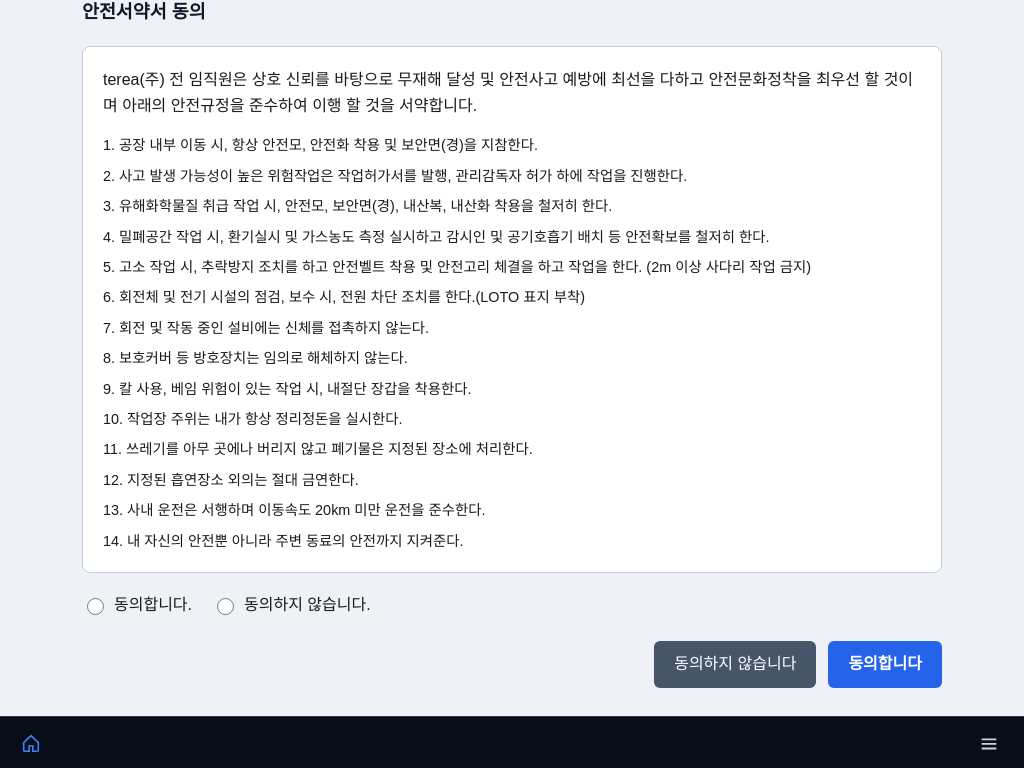
Scenario: S11: 안전서약서 동의 후 진행 › 미동의 시 주황 안내가 뜨고, 동의 후 방문 정보로 이동한다
The image size is (1024, 768).
(page scrolled)
Click the button "동의합니다".
click(885, 664)  # box [828, 641, 942, 688]
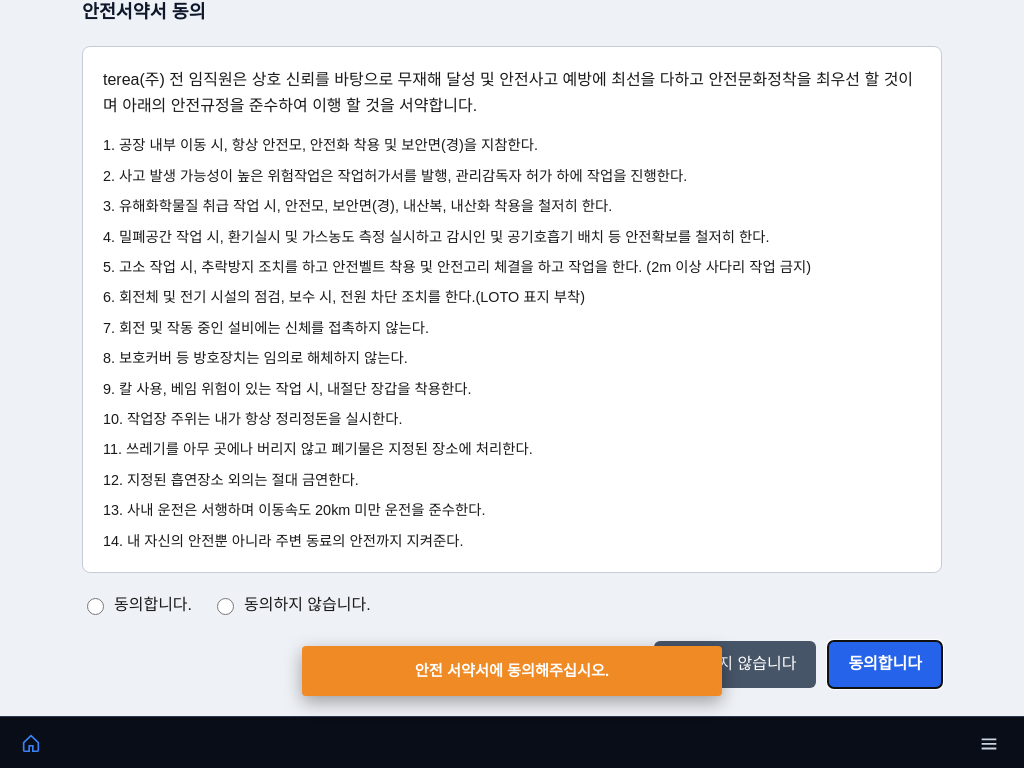
Expected: the heading "방문 정보" is not shown
Expected: the message shows "안전 서약서에 동의해주십시오", [415, 662, 609, 679]
Click the radio button labelled "동의합니다.".
click(95, 607)  # box [87, 598, 104, 615]
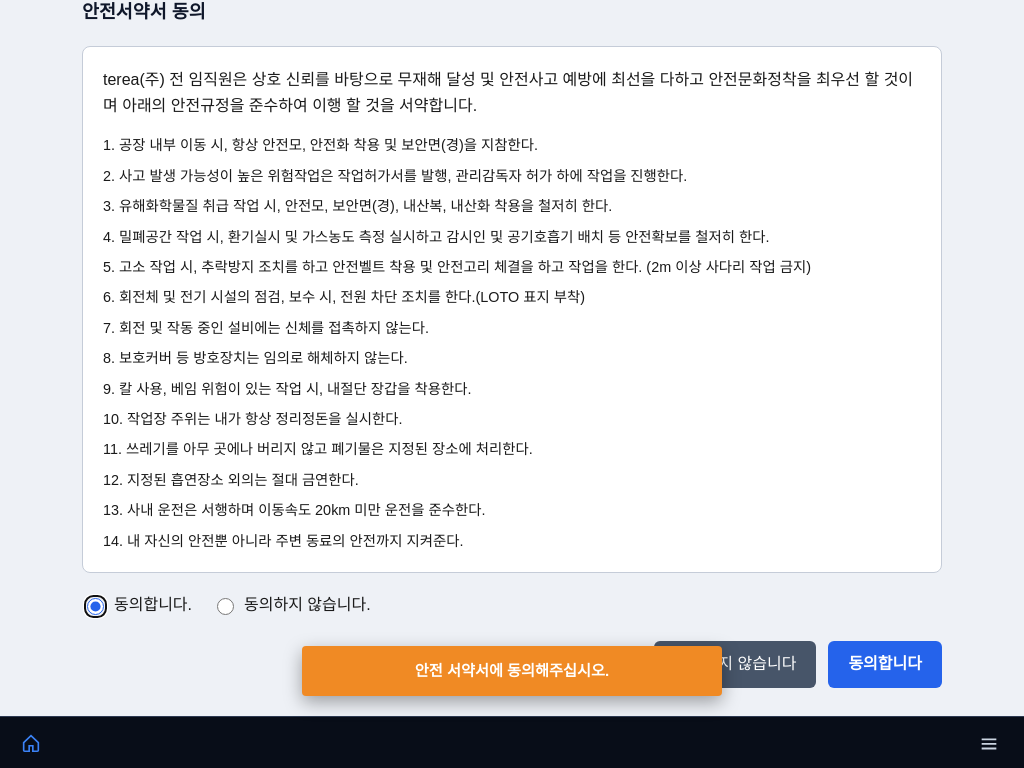
Click the button "동의합니다".
click(885, 664)  # box [828, 641, 942, 688]
(page scrolled)
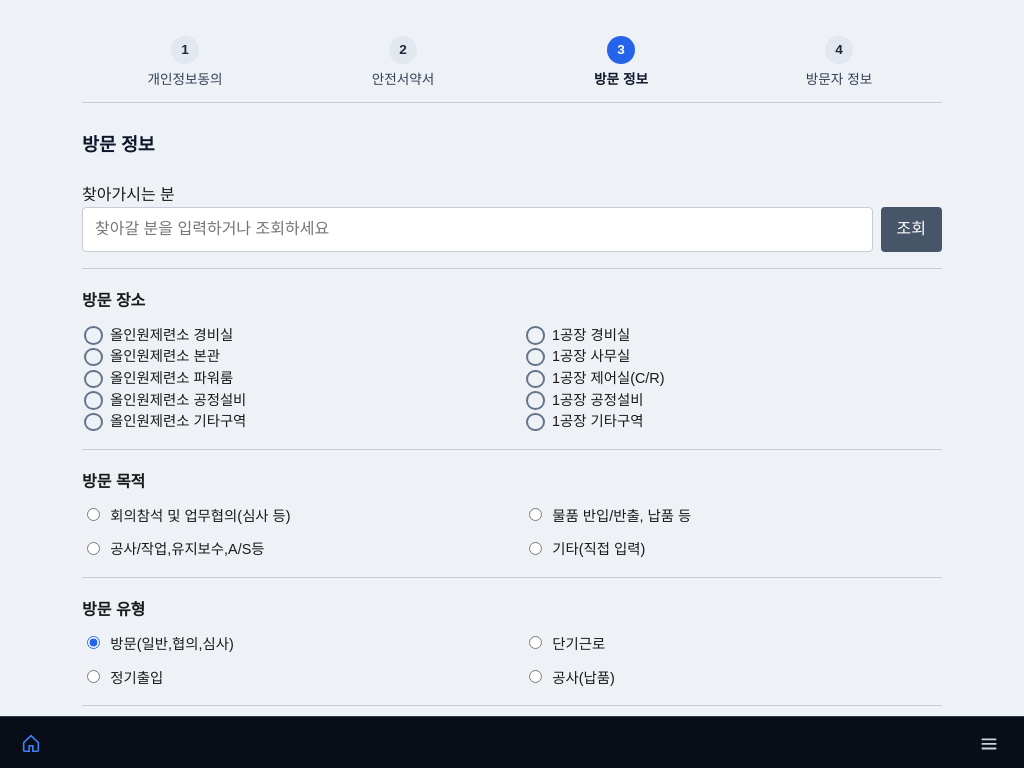
Expected: the heading "방문 정보" is shown, [82, 134, 155, 155]
